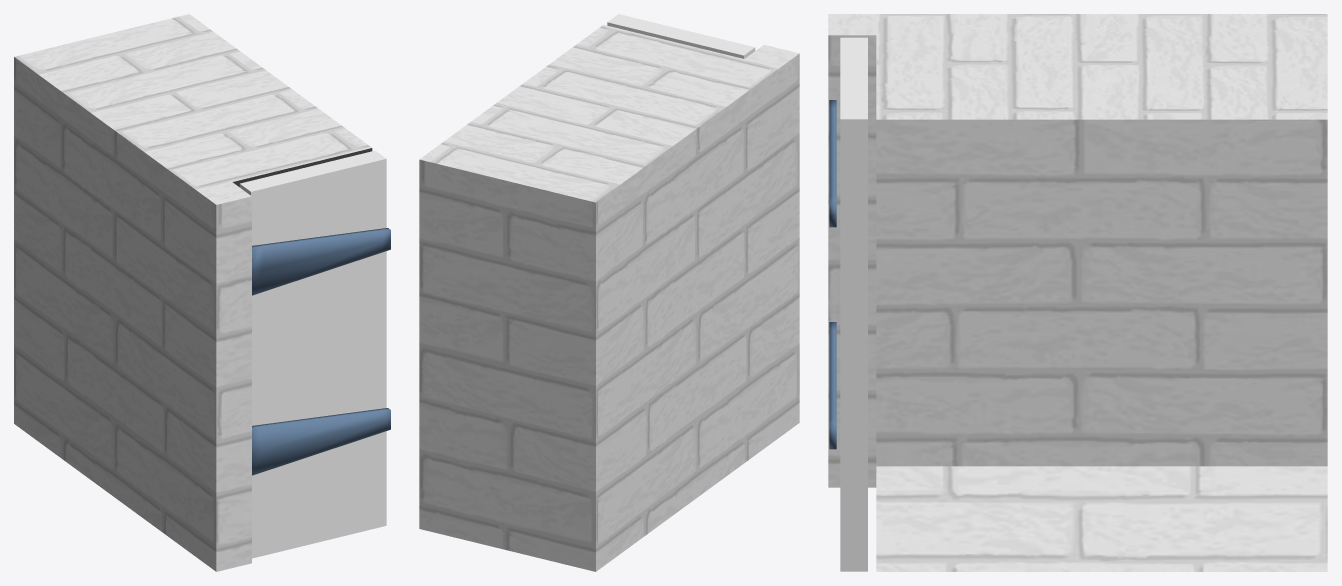
Rendered from castle_type_v.gltf.
3 views of the same model, side by side, from view 1: azimuth 30°, elevation 25°; view 2: azimuth 150°, elevation 25°; view 3: azimuth 270°, elevation 25° (orthographic). The views are drawn at different scales.
Visible parts, largest first — view 1: Type_V; view 2: Type_V; view 3: Type_V.
Boxes of the visible parts, x1,y1,x2,y2 form: Type_V: [14, 14, 390, 571]; Type_V: [419, 14, 799, 571]; Type_V: [828, 14, 1327, 571].
Size of the model in its own units: 0.5001 by 1 by 1.
4 materials, 1 textured.
